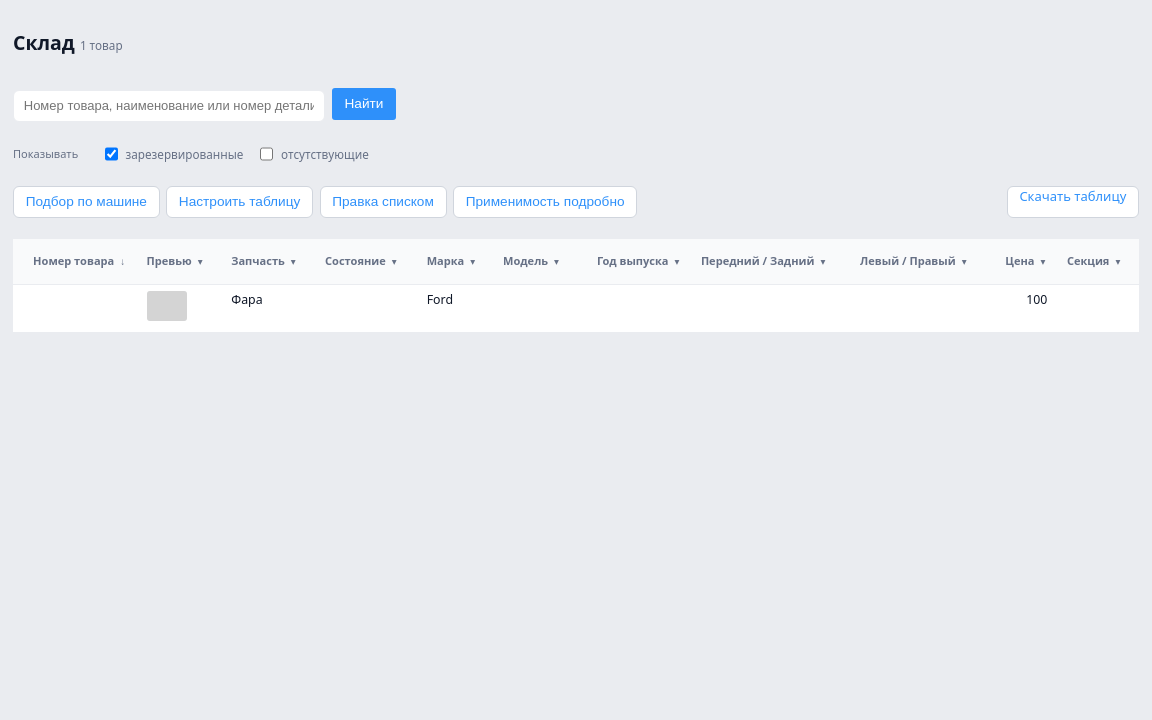
Scenario: отбор колонки при пустой выдаче › чип отбора остаётся, когда таблица исчезла, и снимается
The width and height of the screenshot is (1152, 720).
Expected: the row "Фара Ford 100" is shown, [13,284,1139,332]
Click the button "▾" next to "Марка": (473, 261) [468,245,477,277]
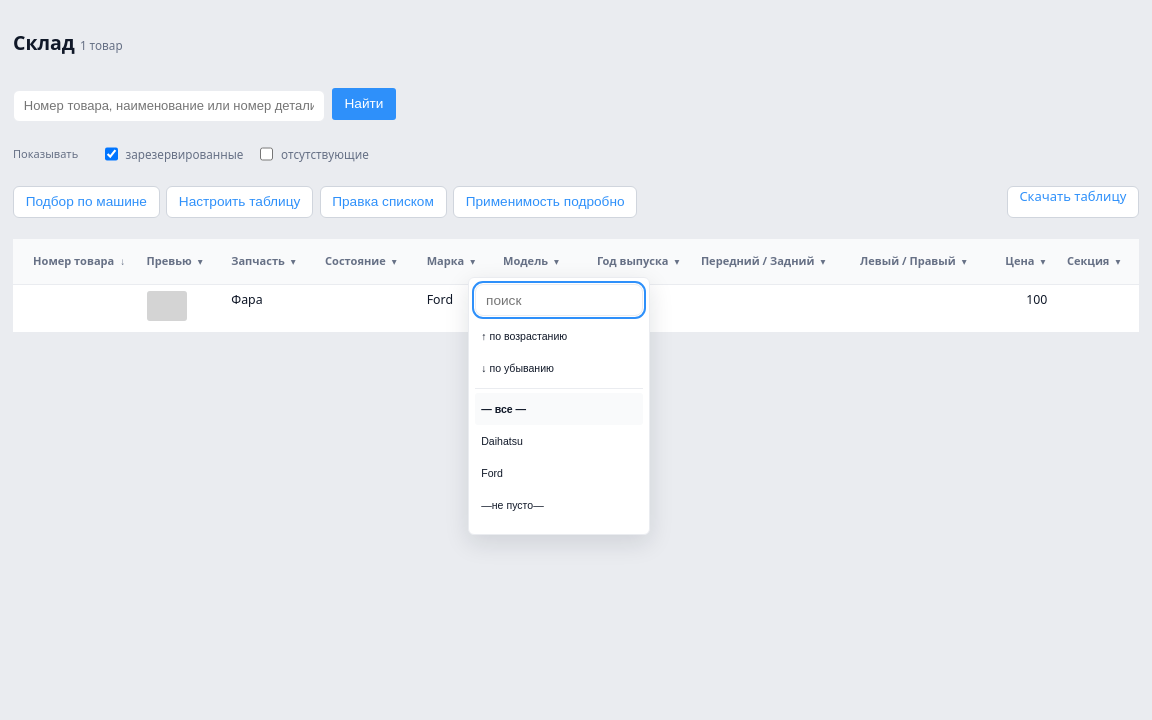
Click the button "Ford": (559, 473) [475,457,643,489]
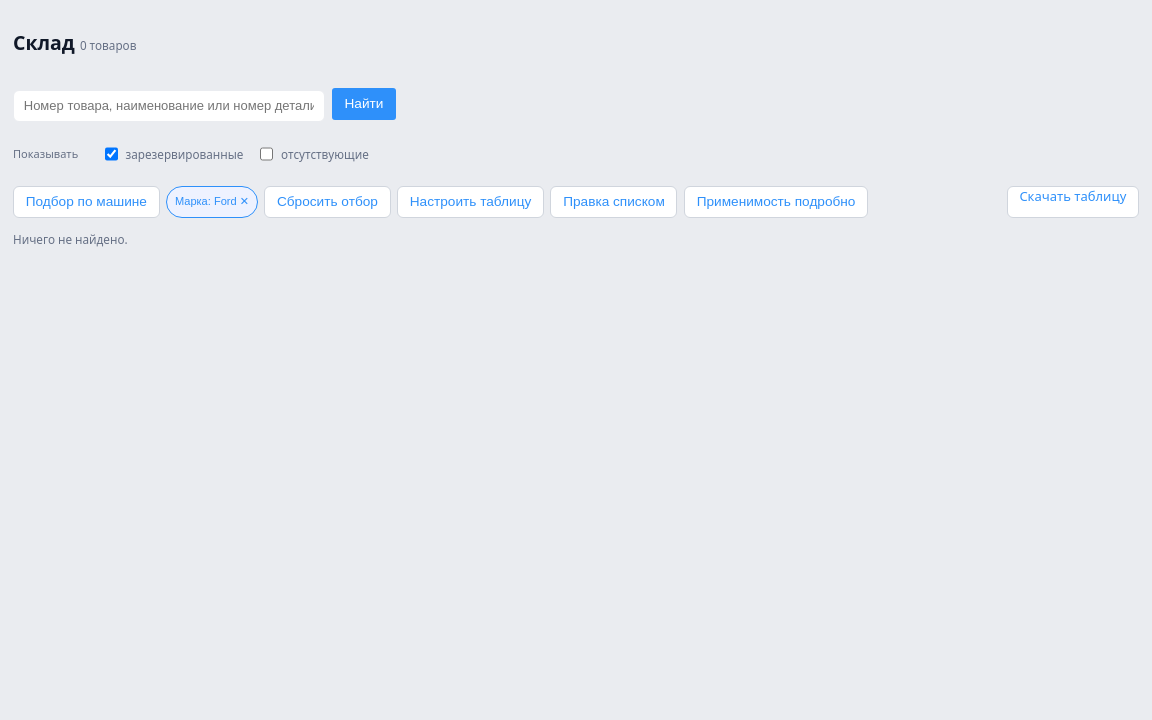
Now the text "Ничего не найдено." is shown, box [13,231,128,247]
Now the button with class "crumb" is shown
Click the button with class "crumb": (212, 202) [166,186,258,218]
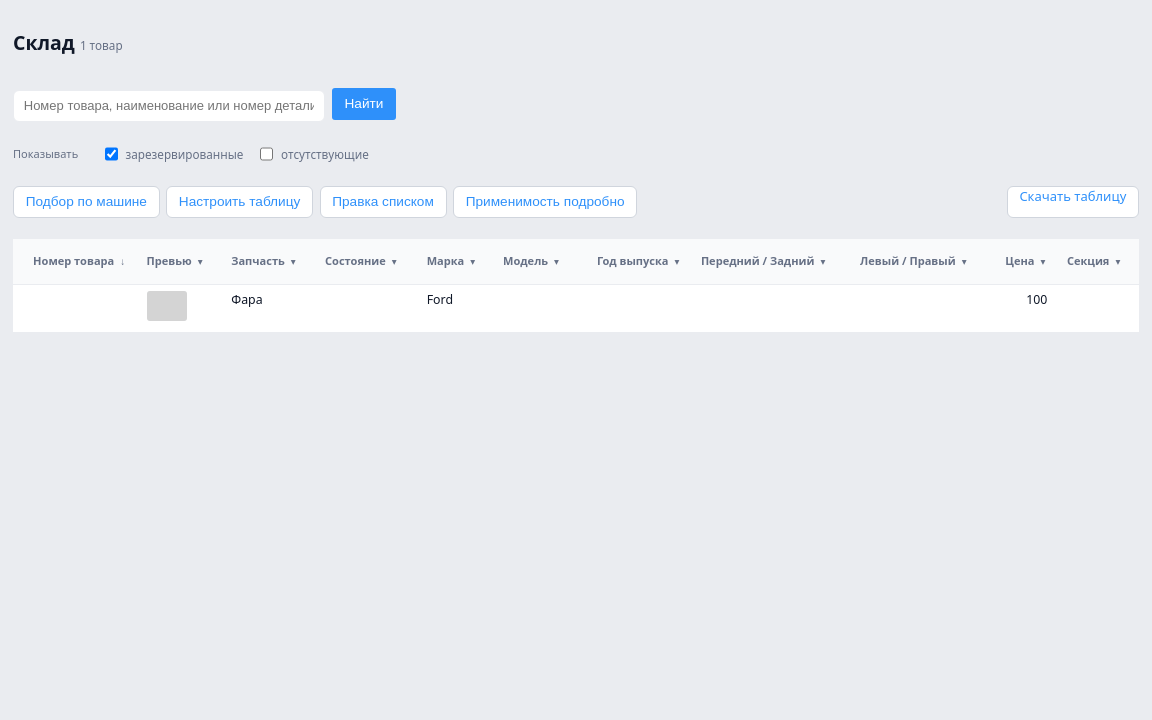
Now the row "Фара Ford 100" is shown, box [13,284,1139,332]
